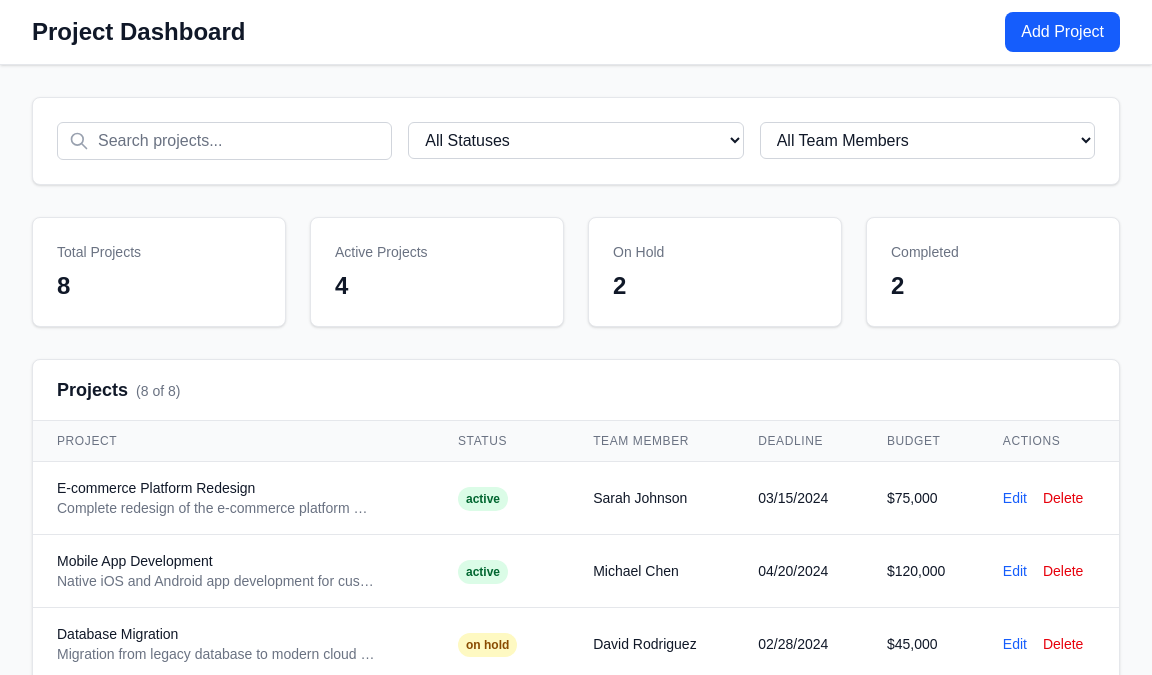
Test case: Dashboard Component › Form Validation › should show validation errors for required fields
The image size is (1152, 675).
// Open add project modal
What coordinates should you click on to do the following:
click the button "Add Project"
I would click on:
 (1063, 32)
Its box is [1005, 12, 1120, 52].
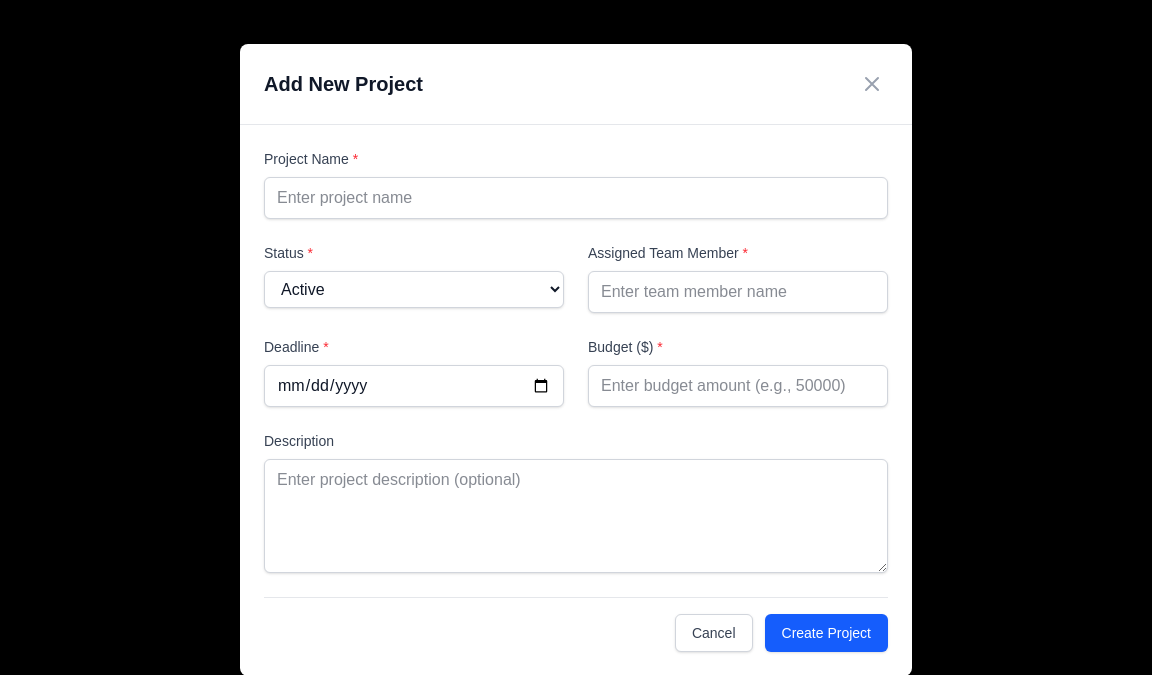
Check: the heading "Add New Project" is shown, box [264, 70, 423, 98]
// Try to submit empty form
What coordinates should you click on to do the following:
click the button "Create Project"
I would click on:
 (826, 633)
Its box is [764, 614, 888, 652].
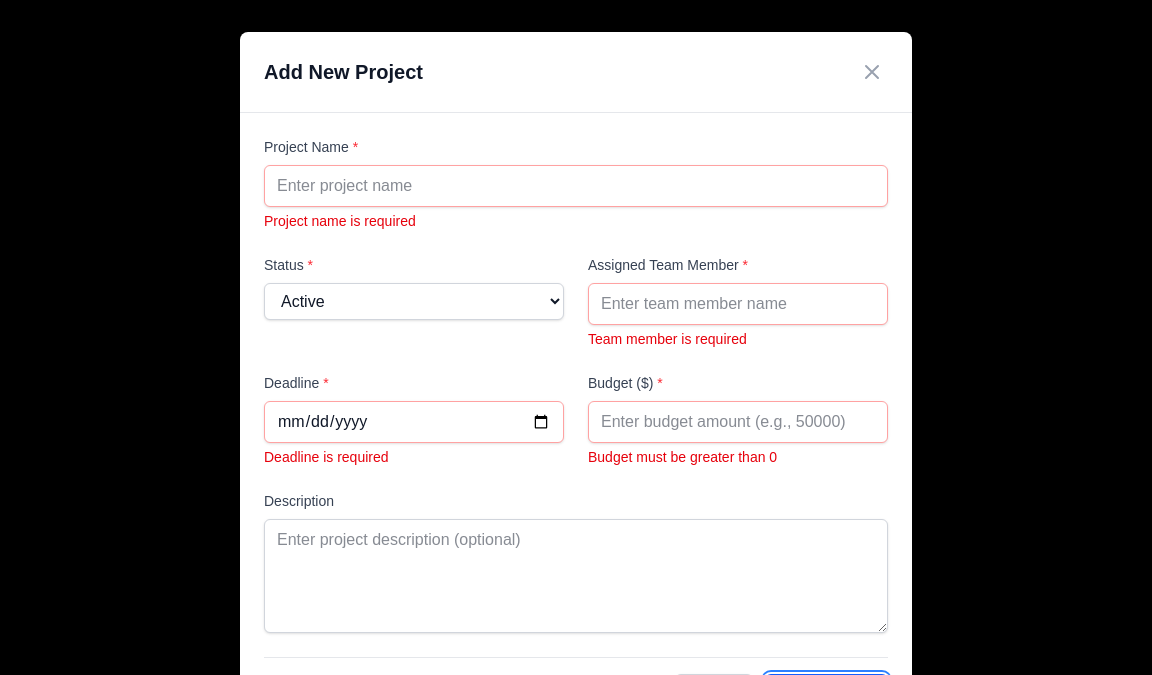
Check: the text "Project name is required" is shown, box [264, 213, 416, 229]
Check: the text "Team member is required" is shown, box [588, 331, 747, 347]
Check: the text "Deadline is required" is shown, box [264, 449, 388, 465]
